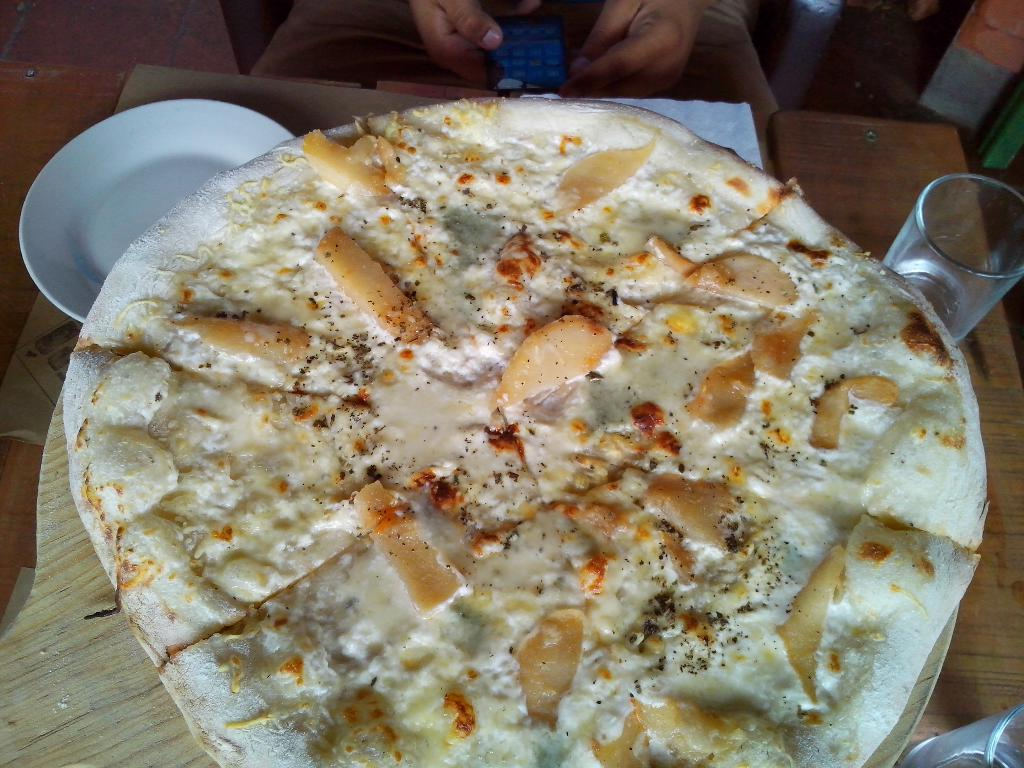Pizza: (28, 104, 985, 752)
